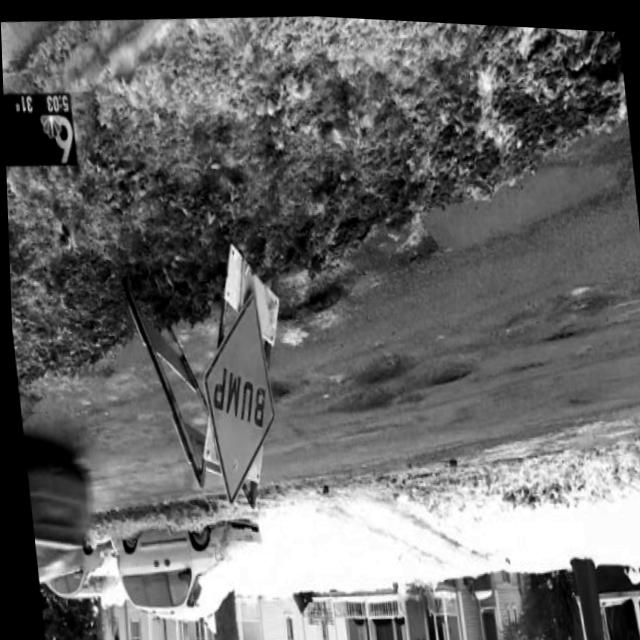pathole: (2, 14, 627, 413), (527, 277, 640, 328), (355, 349, 470, 384), (500, 302, 590, 346), (321, 382, 400, 412), (405, 227, 437, 256), (268, 379, 287, 399)
